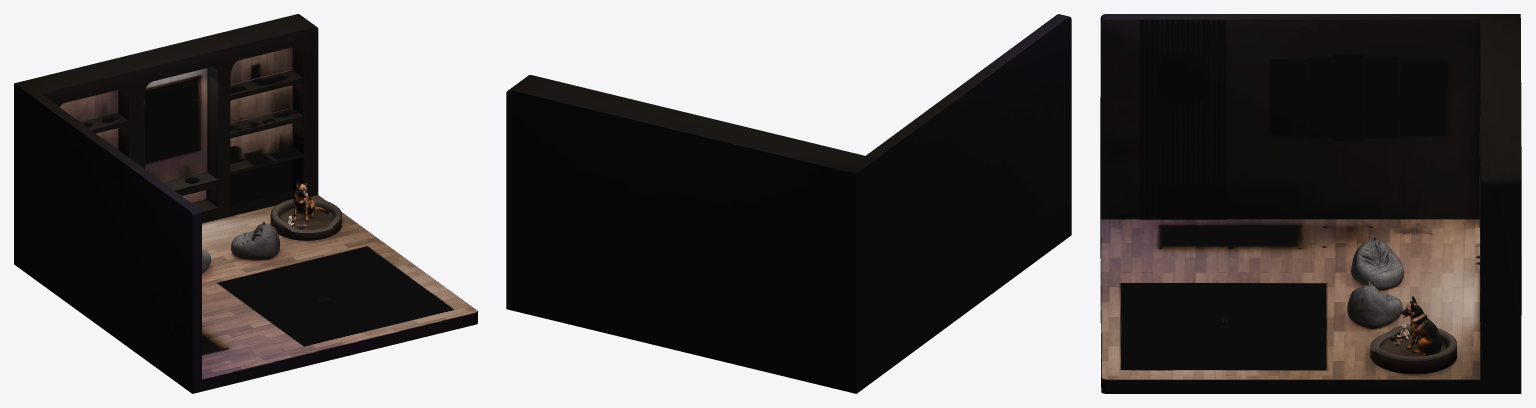
Rendered from Dark1stoffice.glb.
3 renders of one model, left to right at view 1: azimuth 30°, elevation 25°; view 2: azimuth 150°, elevation 25°; view 3: azimuth 270°, elevation 25°, orthographic. The views are drawn at different scales.
Parts seen in each view (by area): view 1: Wall2_Baked, DogBed_Baked, BeanBags2, Shepherd_Baked; view 2: Wall2_Baked; view 3: Wall2_Baked, BeanBags2, DogBed_Baked, Shepherd_Baked.
Boxes of the visible parts, x1,y1,x2,y2 form: Wall2_Baked: [14, 14, 477, 393]; DogBed_Baked: [270, 198, 341, 240]; BeanBags2: [202, 221, 279, 272]; Shepherd_Baked: [291, 179, 328, 222]; Wall2_Baked: [506, 14, 1071, 393]; Wall2_Baked: [1100, 14, 1521, 393]; BeanBags2: [1347, 236, 1403, 327]; DogBed_Baked: [1370, 324, 1456, 373]; Shepherd_Baked: [1399, 296, 1442, 355].
Size of what is drawn, in the model's own units: 5 by 3.01 by 5.35.
Materials: 6 (6 with a texture image).
